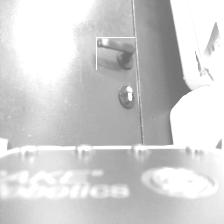Door Handle: (96, 37, 135, 70)
Lock: (117, 82, 137, 110)
